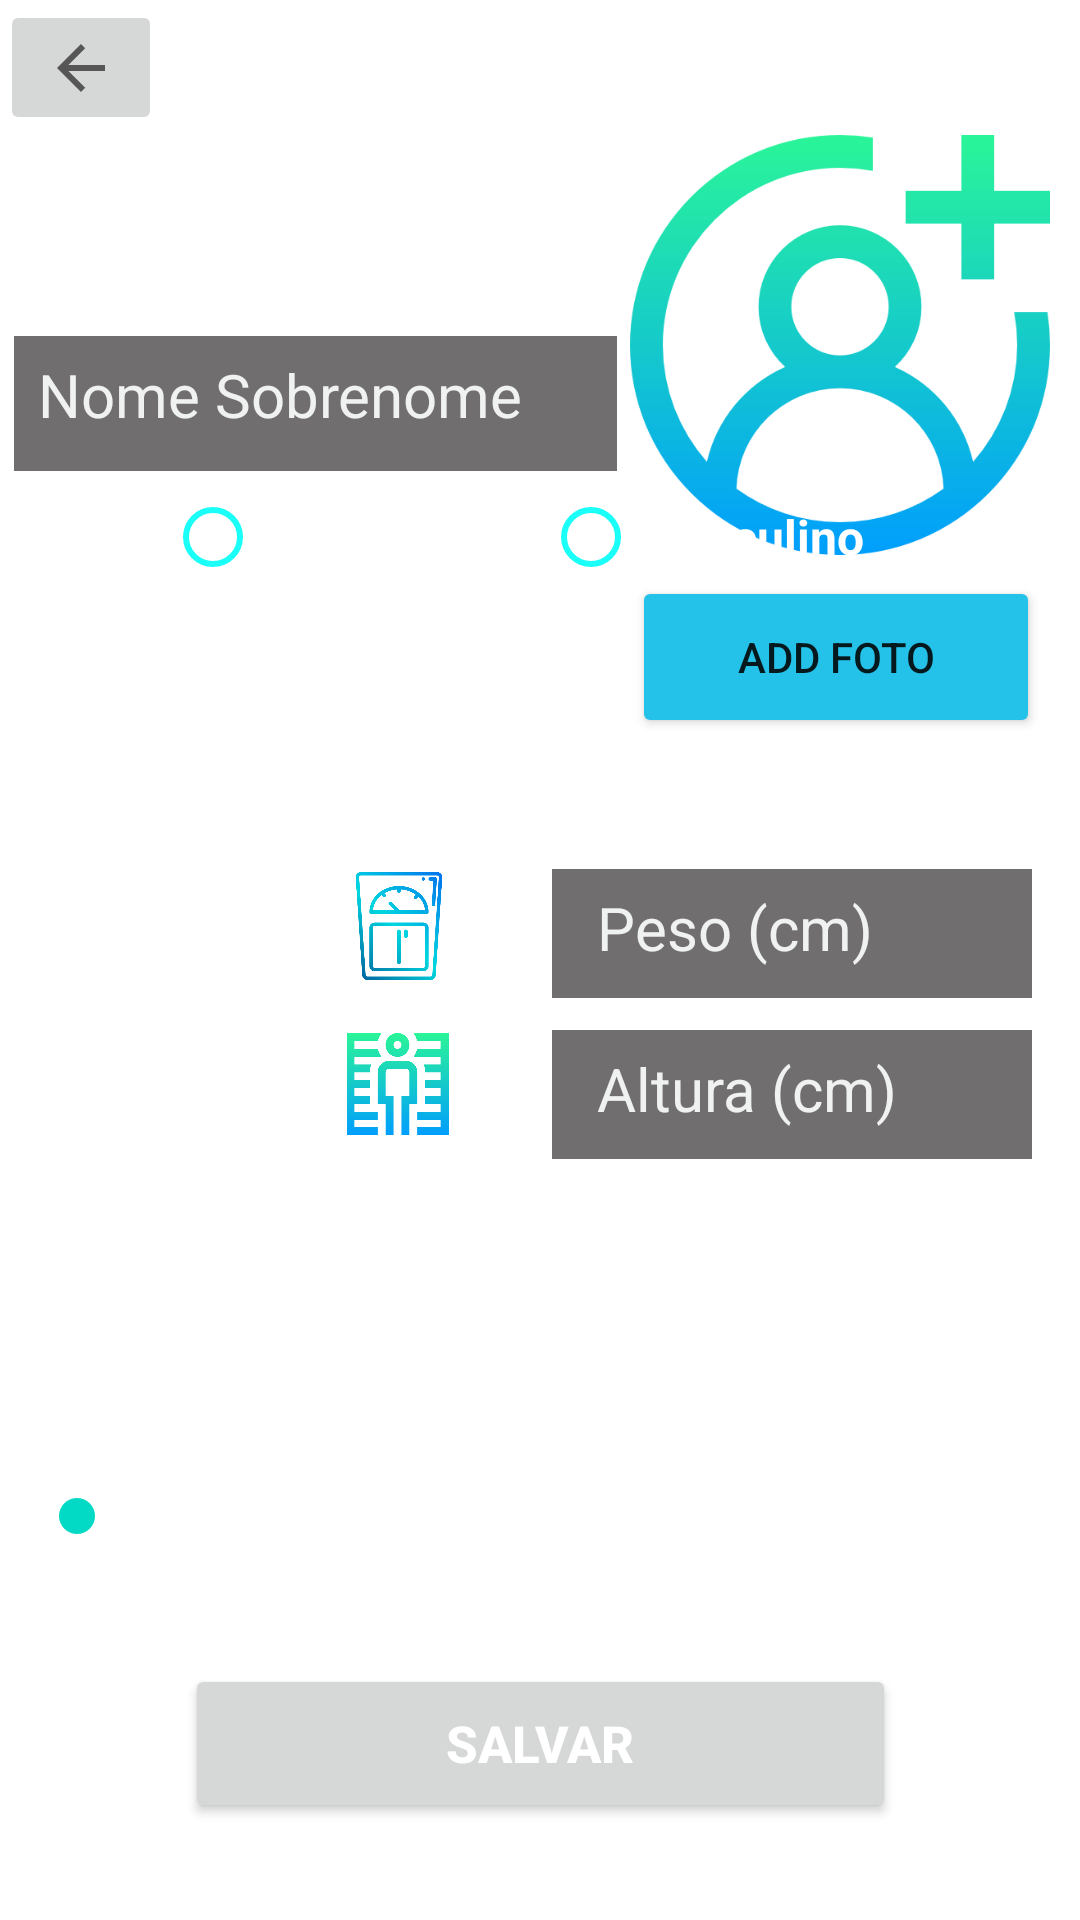

Named icons in this screenshot (1080px×1920px) and their bounding boxes, (x1,y1,x2,y2):
escala: (355,872,442,980)
